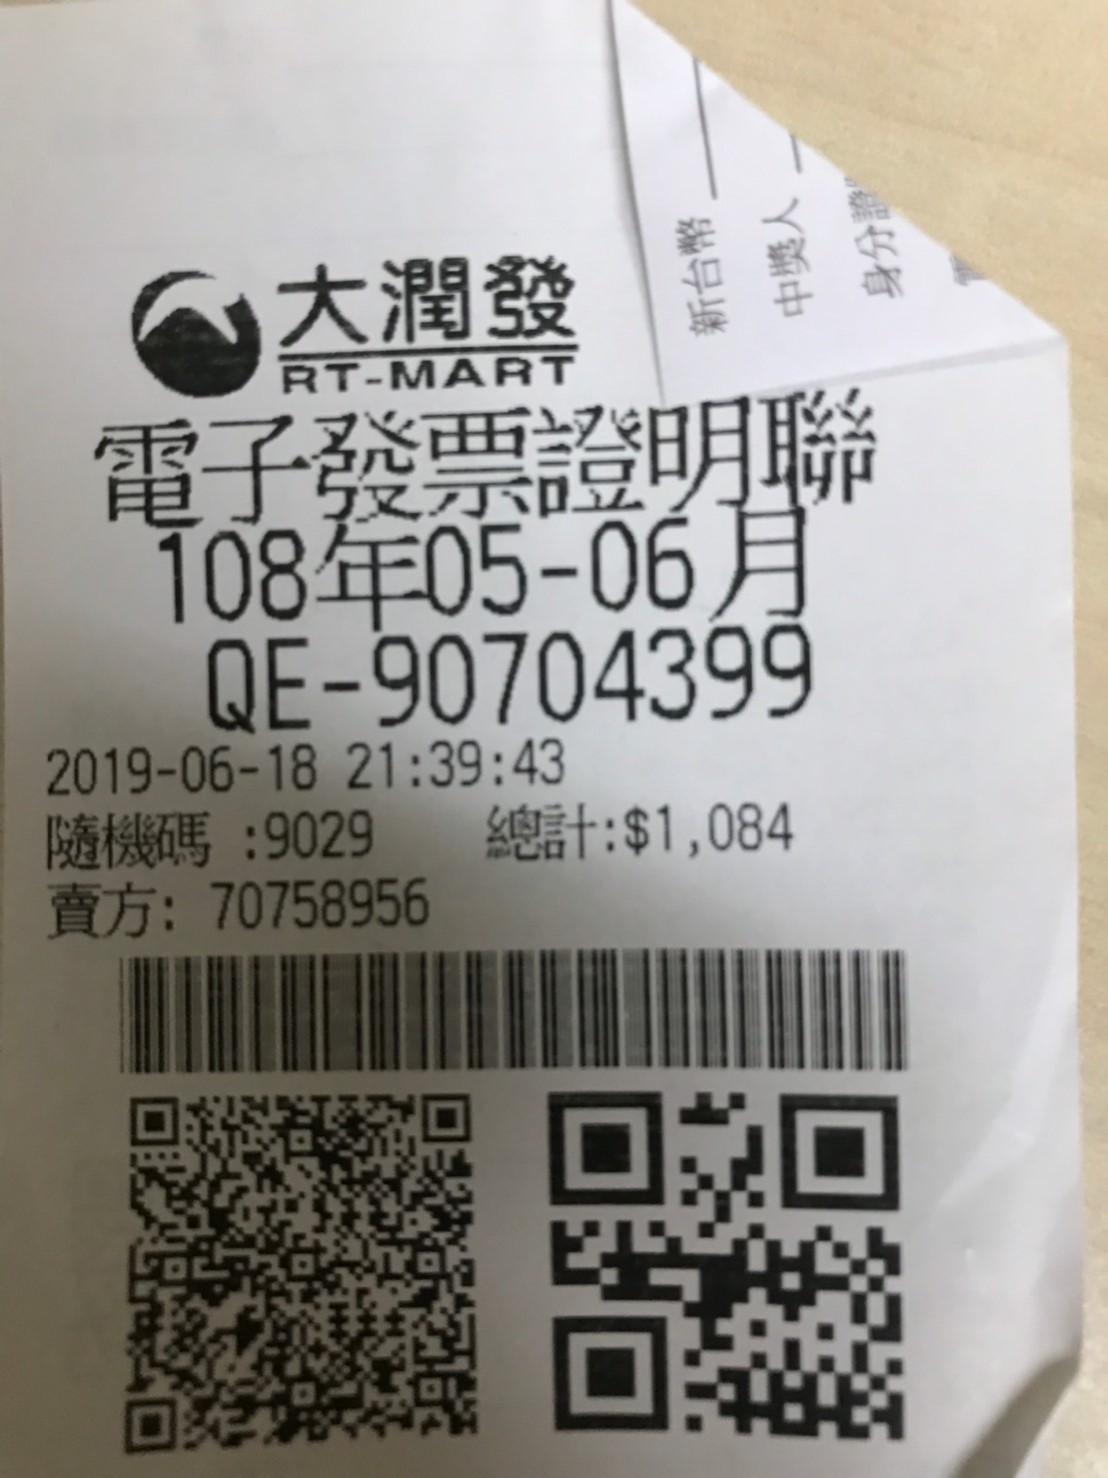Date_New: (159, 504, 811, 620)
Number_New: (370, 620, 818, 730)
